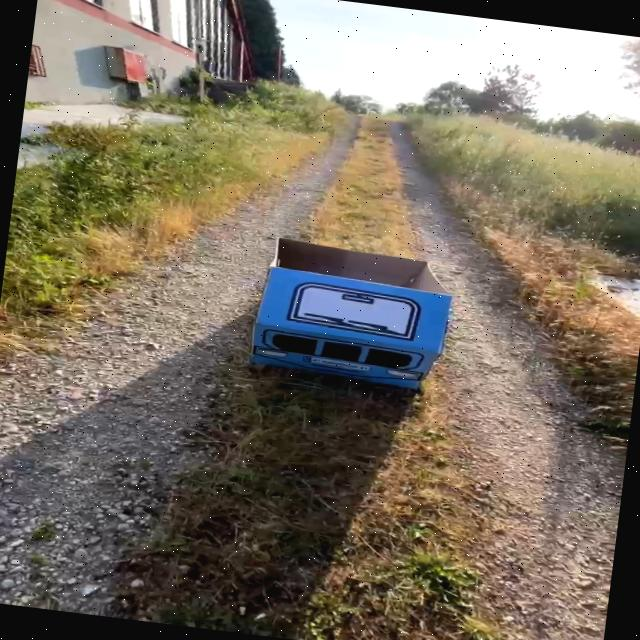blue_car: (204, 221, 493, 411)
